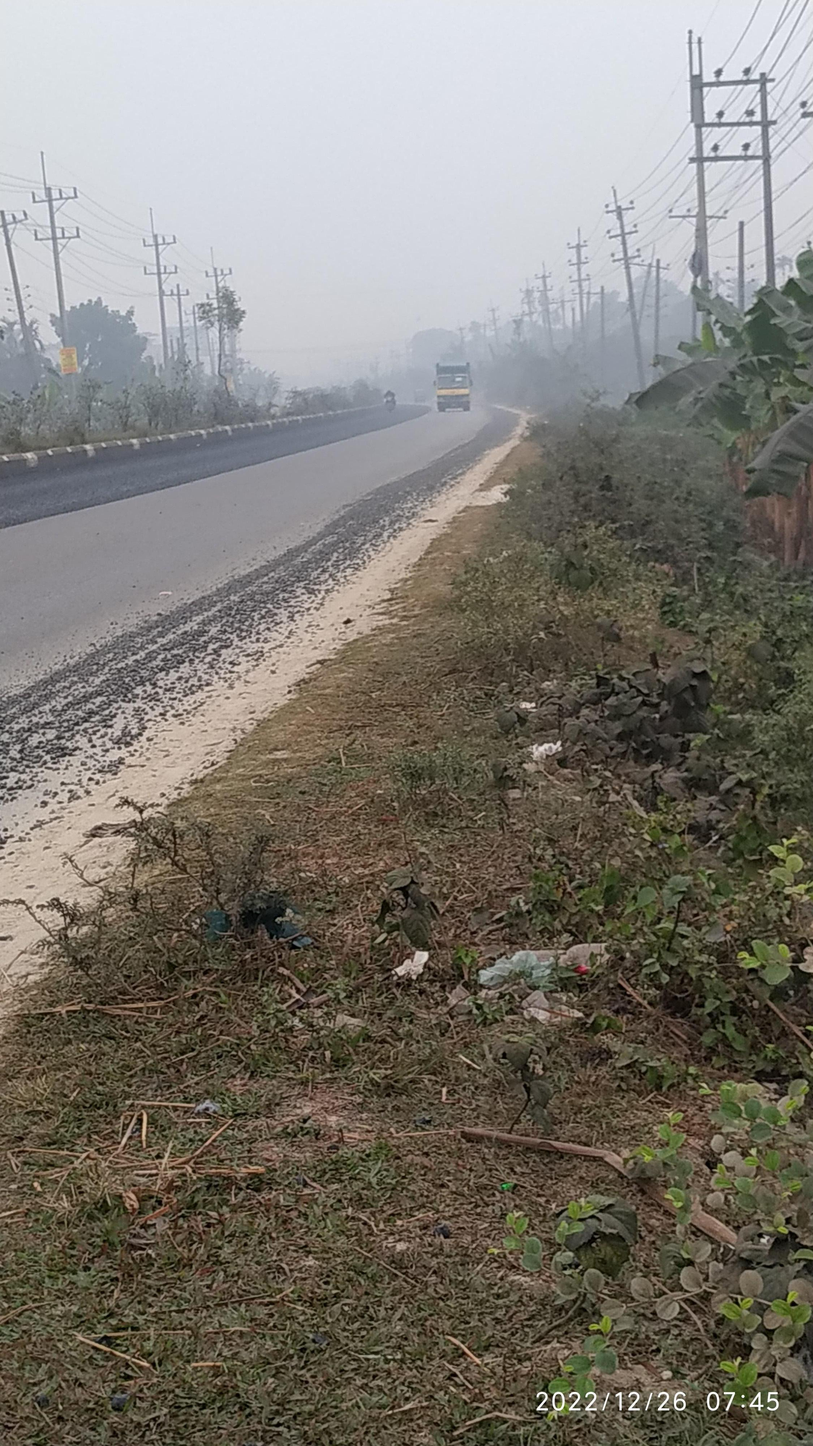Truck: (423, 355, 480, 420)
